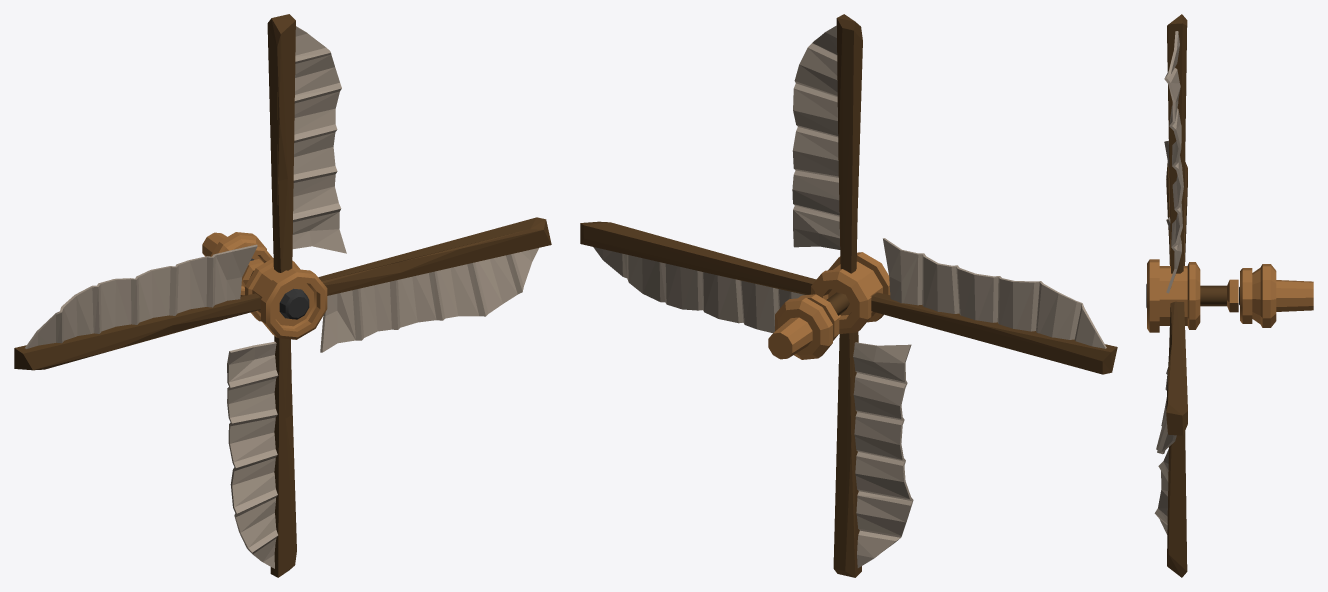
File: SM_windmill_wheel.fbx
3 renders of one model, left to right at view 1: azimuth 30°, elevation 25°; view 2: azimuth 150°, elevation 25°; view 3: azimuth 270°, elevation 25°, orthographic.
Visible parts, largest first — view 1: Object32458; view 2: Object32458; view 3: Object32458.
Part boxes in pixels (x1=…): Object32458: x1=14, y1=14, x2=551, y2=577; Object32458: x1=580, y1=14, x2=1117, y2=577; Object32458: x1=1146, y1=14, x2=1313, y2=577.
Bounding box in the file's own units: 433 × 433 × 119.
